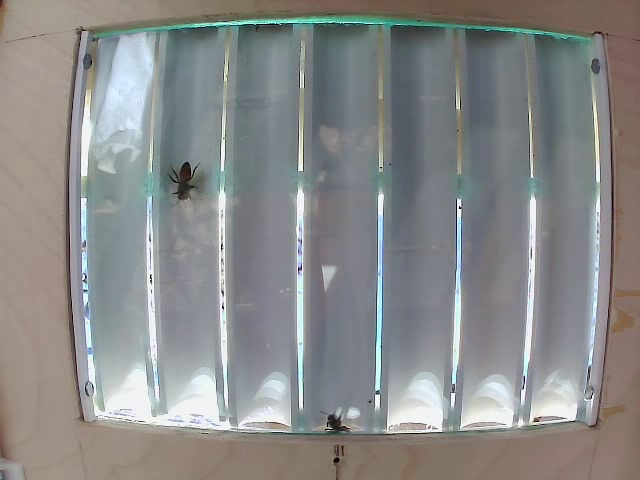bee: (164, 155, 206, 205)
